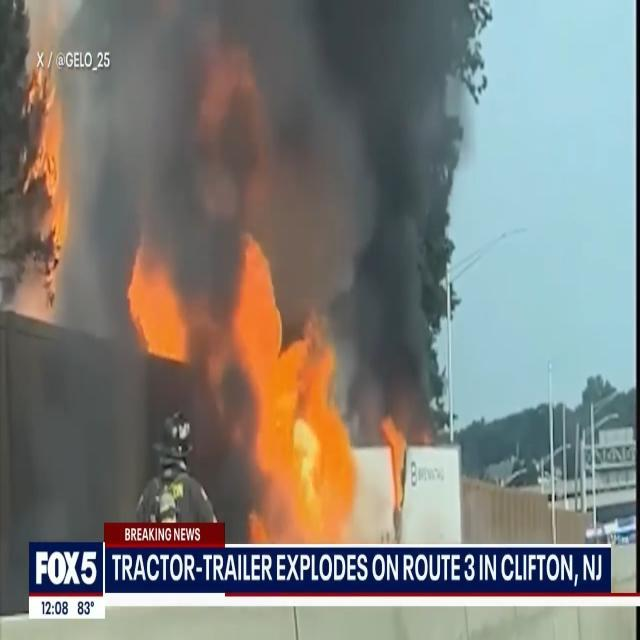fire: (229, 235, 364, 540), (119, 236, 190, 362), (22, 45, 67, 234), (382, 414, 416, 518)
